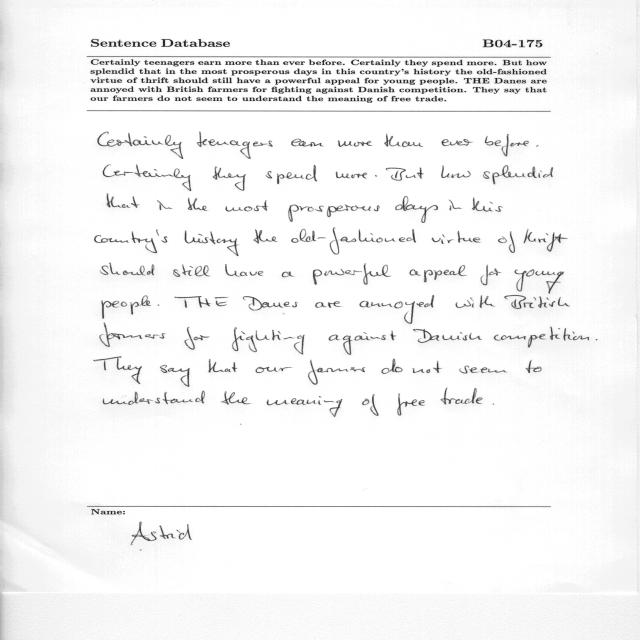word: (291, 228, 416, 255), (98, 132, 183, 159), (103, 165, 191, 191), (360, 295, 435, 324), (196, 132, 273, 159), (232, 327, 305, 355), (494, 327, 589, 348), (313, 263, 391, 285), (95, 230, 168, 253), (329, 330, 396, 355), (288, 204, 380, 222), (267, 396, 342, 417), (100, 324, 165, 347), (103, 391, 205, 405), (308, 360, 365, 385), (102, 295, 151, 324), (185, 230, 239, 256), (483, 165, 553, 184), (94, 357, 142, 384), (514, 269, 564, 294), (395, 196, 438, 223), (524, 229, 568, 252), (409, 265, 467, 282), (266, 165, 317, 184), (485, 134, 529, 156), (413, 329, 482, 343), (504, 295, 570, 309), (243, 296, 298, 311), (212, 167, 246, 191), (441, 388, 483, 405), (160, 365, 190, 387), (101, 263, 155, 275), (175, 296, 229, 308), (432, 231, 481, 244), (397, 394, 425, 416), (185, 327, 210, 350), (225, 200, 268, 212), (384, 134, 423, 147), (456, 295, 495, 308), (386, 168, 424, 181), (173, 264, 210, 277), (225, 264, 263, 276), (107, 194, 139, 208), (472, 198, 503, 212), (481, 265, 502, 285), (209, 359, 238, 373), (221, 391, 250, 405), (441, 165, 471, 178), (459, 366, 507, 374), (498, 231, 515, 253), (254, 229, 278, 244), (362, 394, 378, 416), (413, 361, 442, 373), (382, 359, 403, 374), (188, 197, 208, 211), (291, 139, 324, 147), (338, 140, 372, 147), (441, 139, 473, 146), (255, 367, 292, 373), (526, 360, 542, 373), (336, 172, 367, 178), (315, 301, 341, 308), (157, 201, 172, 211), (449, 200, 462, 210), (282, 272, 294, 278), (536, 145, 539, 147), (375, 175, 377, 177), (158, 304, 160, 306), (596, 339, 598, 340), (493, 404, 495, 405)
